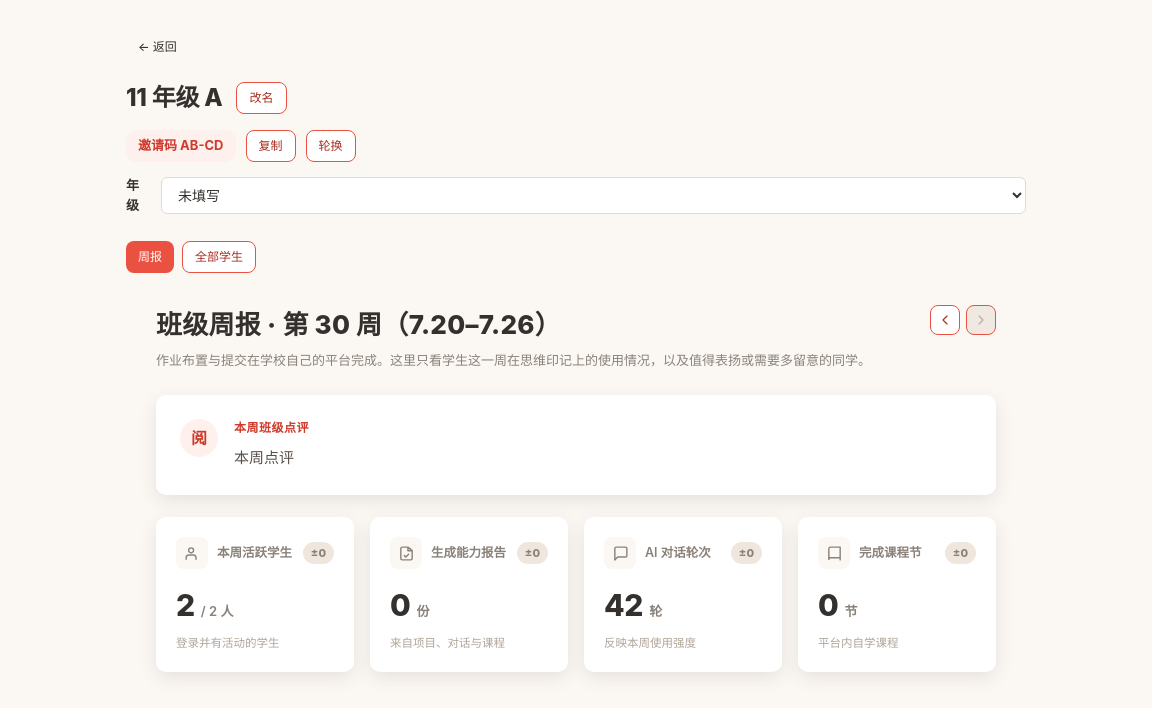
Test: ClassDetailView roster › renders an empty-roster note with the join code
Click the button "全部学生": coordinates (219, 257) [182,241,256,273]
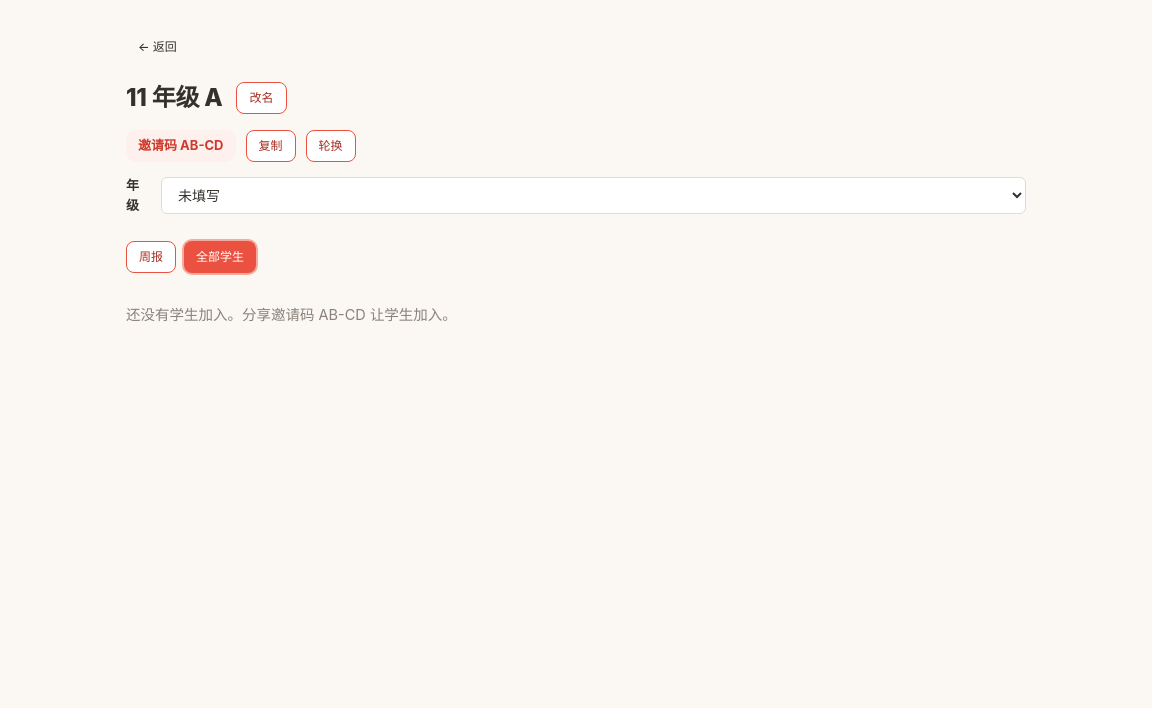
Check: the text "还没有学生加入。分享邀请码 AB-CD 让学生加入。" is shown, box [126,306,457,323]
